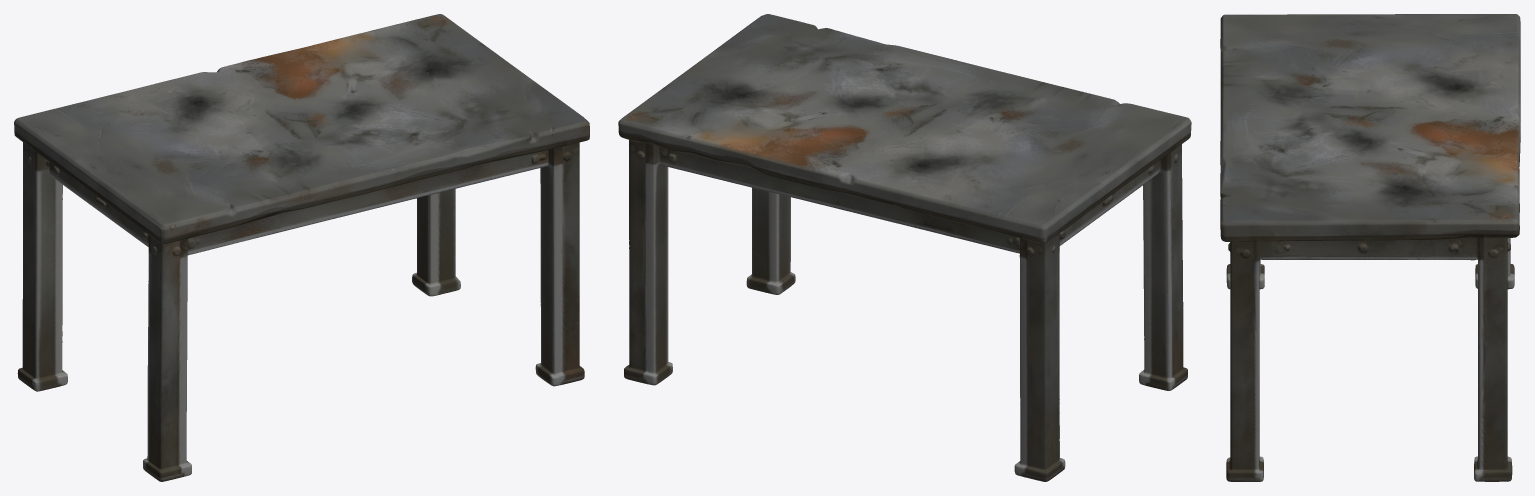
File: mesa mejoras.glb
3 renders of one model, left to right at view 1: azimuth 30°, elevation 25°; view 2: azimuth 150°, elevation 25°; view 3: azimuth 270°, elevation 25°, orthographic.
Parts seen in each view (by area): view 1: tripo_node_6db26b25-9e29-4b62-812e-f48194ab688d; view 2: tripo_node_6db26b25-9e29-4b62-812e-f48194ab688d; view 3: tripo_node_6db26b25-9e29-4b62-812e-f48194ab688d.
Part boxes in pixels (box(x1,y1,x2,y2)): tripo_node_6db26b25-9e29-4b62-812e-f48194ab688d: box(14, 14, 589, 481); tripo_node_6db26b25-9e29-4b62-812e-f48194ab688d: box(618, 14, 1191, 481); tripo_node_6db26b25-9e29-4b62-812e-f48194ab688d: box(1220, 14, 1520, 481).
Bounding box in the file's own units: 1 × 0.5799 × 0.6018.
1 material, 1 textured.
